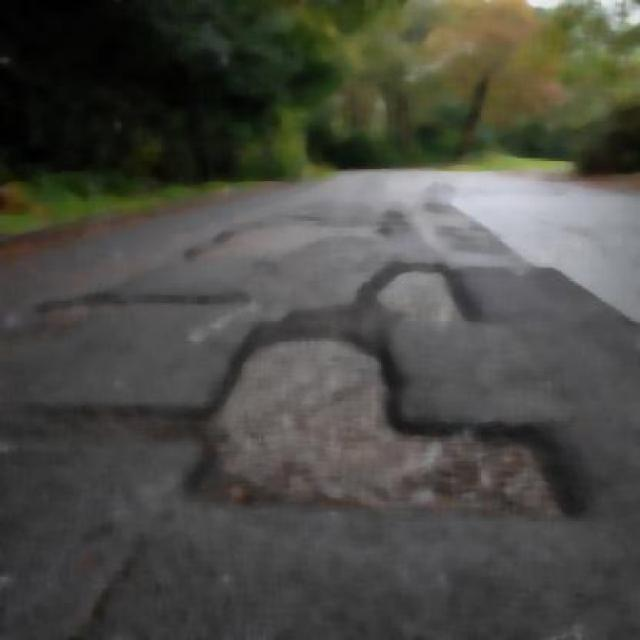Pothole: (194, 308, 578, 550), (170, 191, 376, 260)
